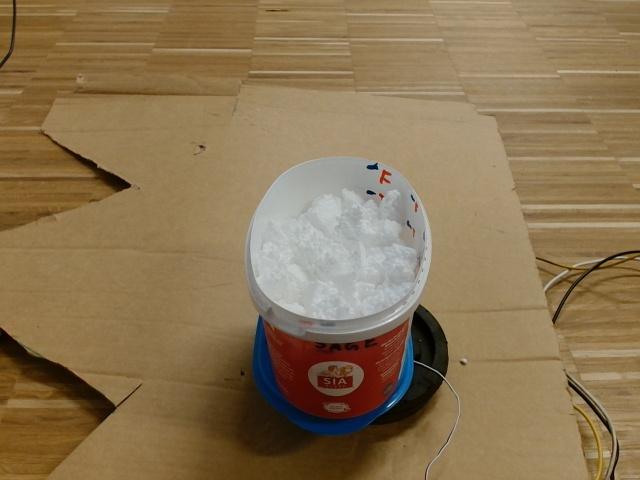Big_threequarter: (247, 153, 432, 338)
